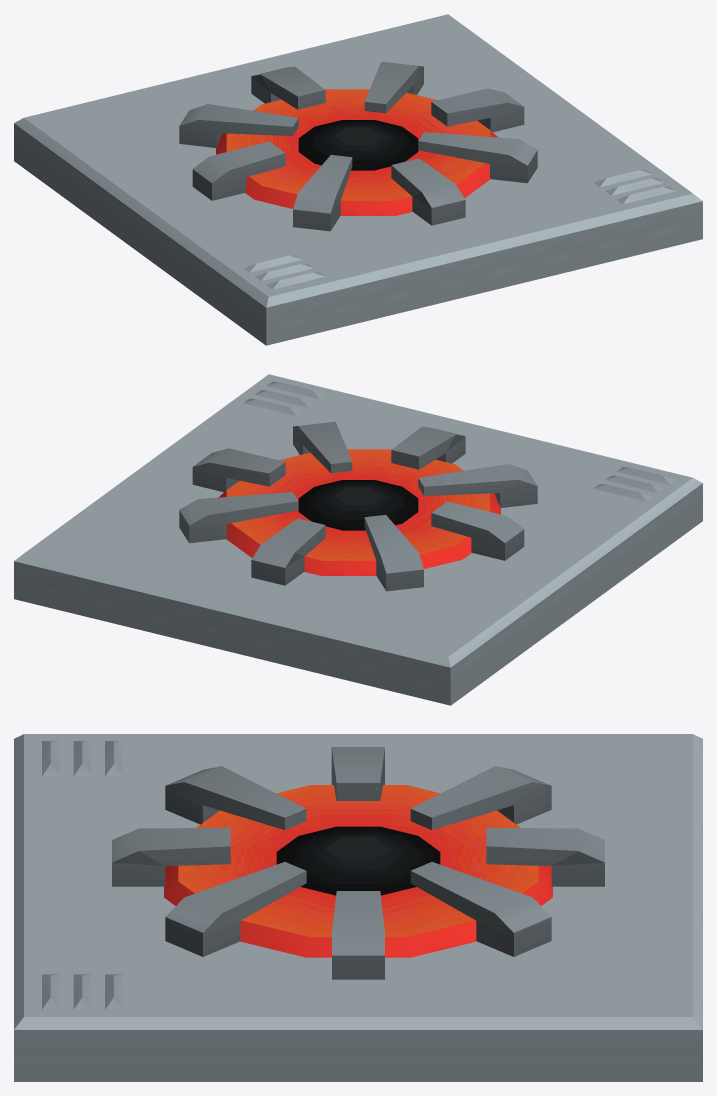
Rendered from stove_single_countertop.gltf.
3 renders of one model, top to bottom at view 1: azimuth 30°, elevation 25°; view 2: azimuth 150°, elevation 25°; view 3: azimuth 270°, elevation 25°, orthographic. The views are drawn at different scales.
Parts seen in each view (by area): view 1: stove_single_countertop; view 2: stove_single_countertop; view 3: stove_single_countertop.
Part boxes in pixels (x1,y1,x2,y2): stove_single_countertop: (14, 14, 702, 345); stove_single_countertop: (14, 374, 702, 705); stove_single_countertop: (14, 734, 702, 1081).
Size of the model in its own units: 1.75 by 0.2777 by 1.75.
Materials: 1 (1 with a texture image).
